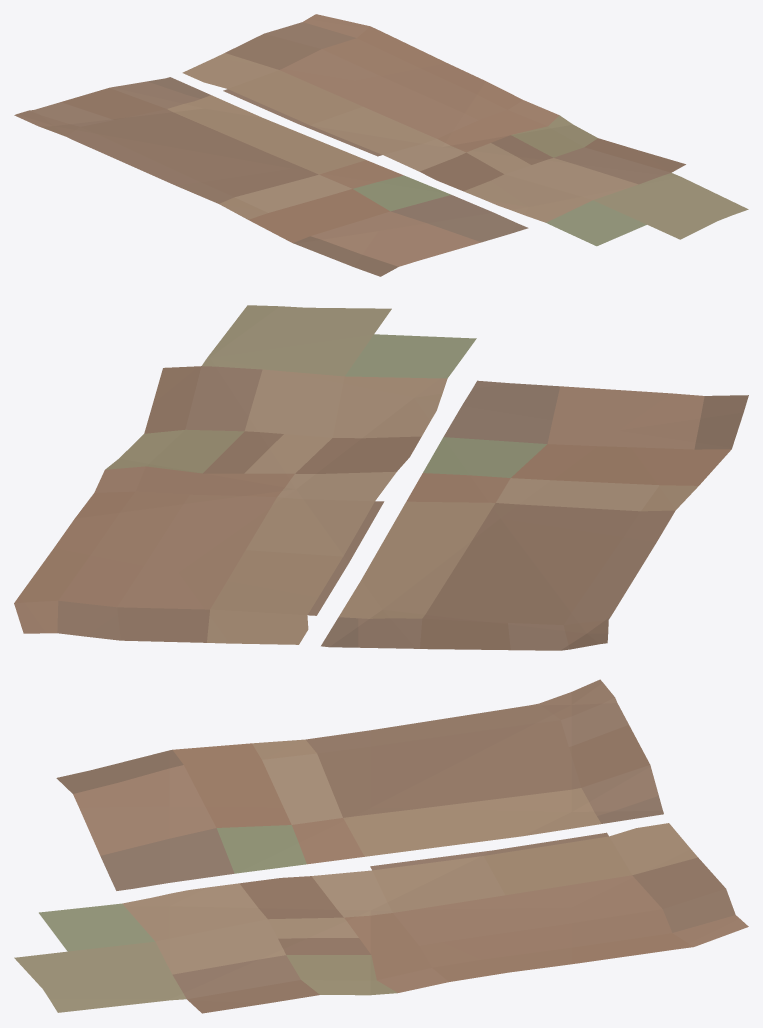
File: farm_3_17_soil.glb
3 views of the same model, one above another, from view 1: azimuth 30°, elevation 25°; view 2: azimuth 150°, elevation 25°; view 3: azimuth 270°, elevation 25° (orthographic). The views are drawn at different scales.
Parts seen in each view (by area): view 1: geometry_0; view 2: geometry_0; view 3: geometry_0.
Part boxes in pixels (x1,y1,x2,y2): geometry_0: (14, 14, 748, 276); geometry_0: (14, 305, 748, 650); geometry_0: (14, 679, 748, 1013).
Size of the model in its own units: 266 by 24.77 by 292.
